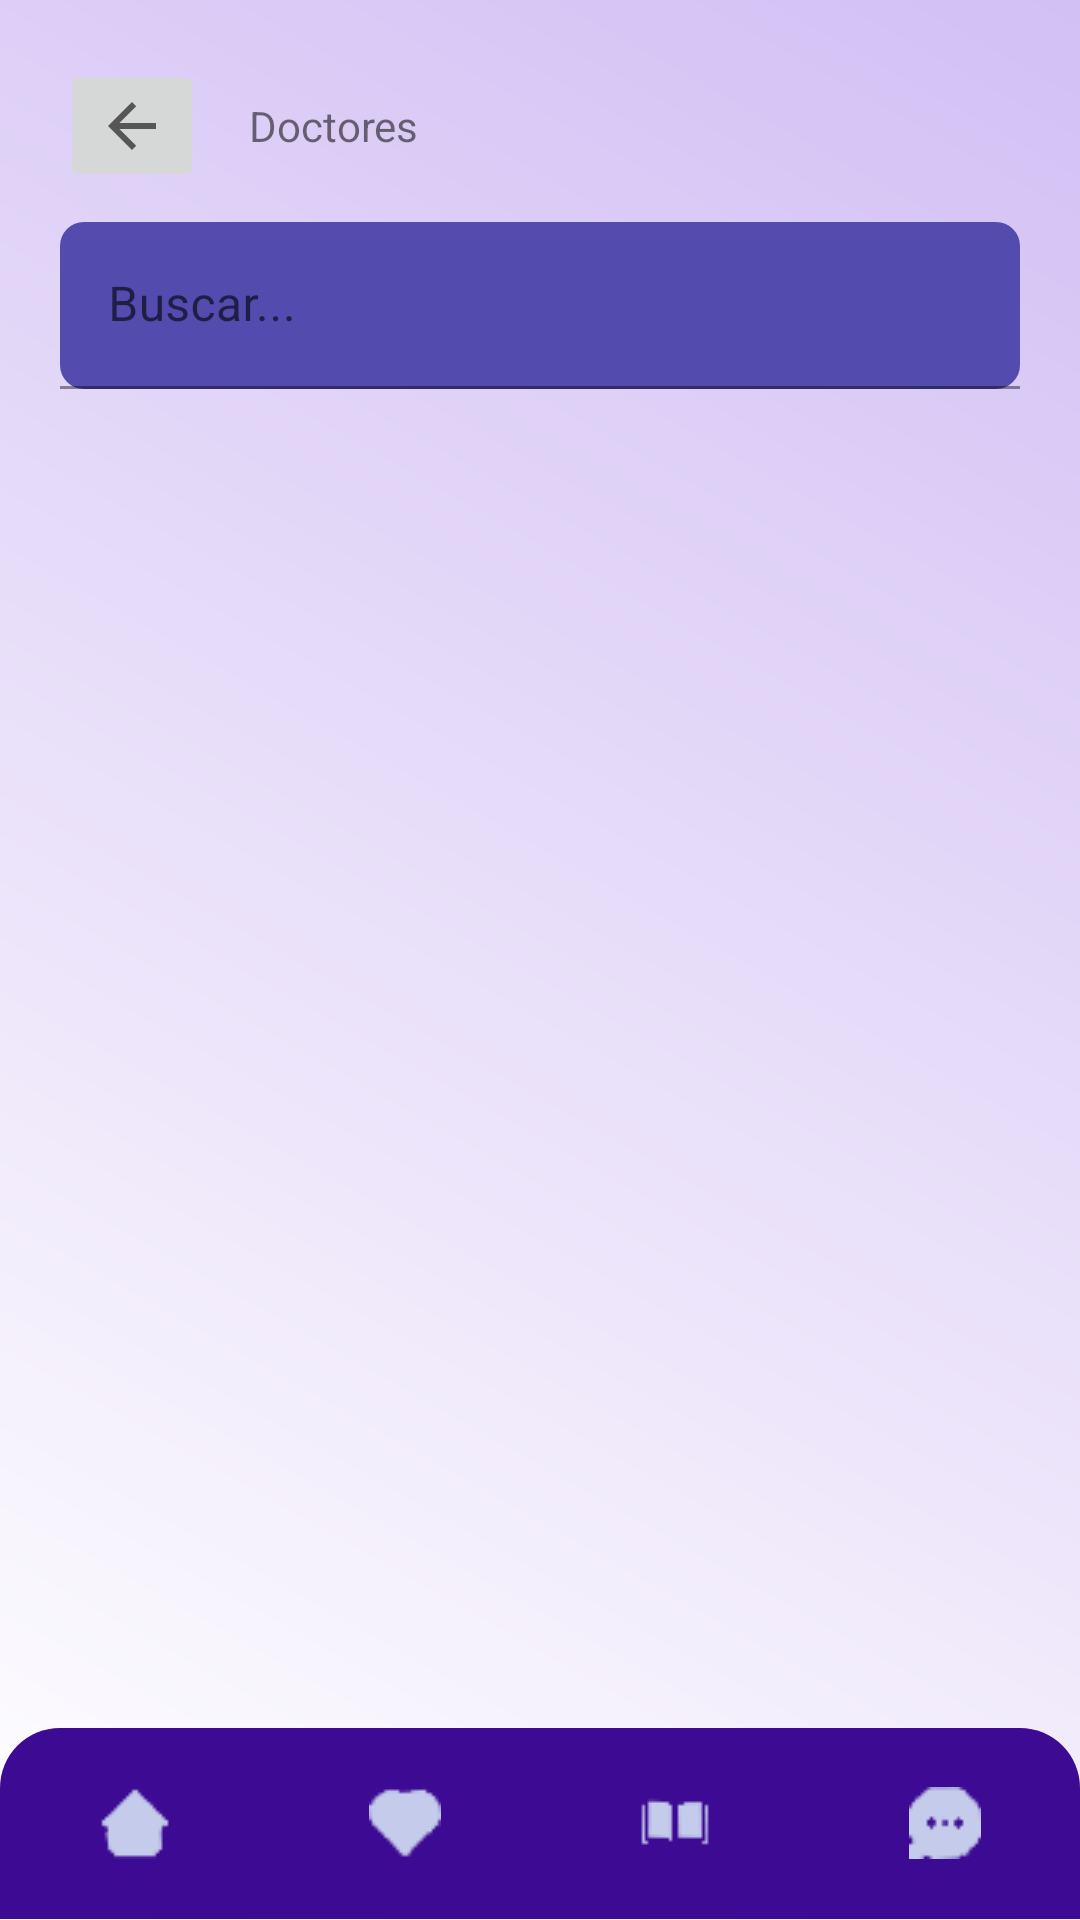

Named icons in this screenshot (1080px×1920px) and their bounding boxes, (x1, y1, x2, y2):
book: (641, 1800, 709, 1845)
home: (101, 1789, 169, 1857)
love: (369, 1789, 441, 1857)
messenger: (909, 1787, 981, 1859)
